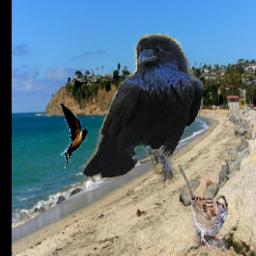Crow: (83, 33, 203, 181)
Sparrow: (178, 165, 229, 253)
Swallow: (61, 102, 89, 168)
